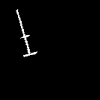double_crochet: (17, 10, 36, 56)
